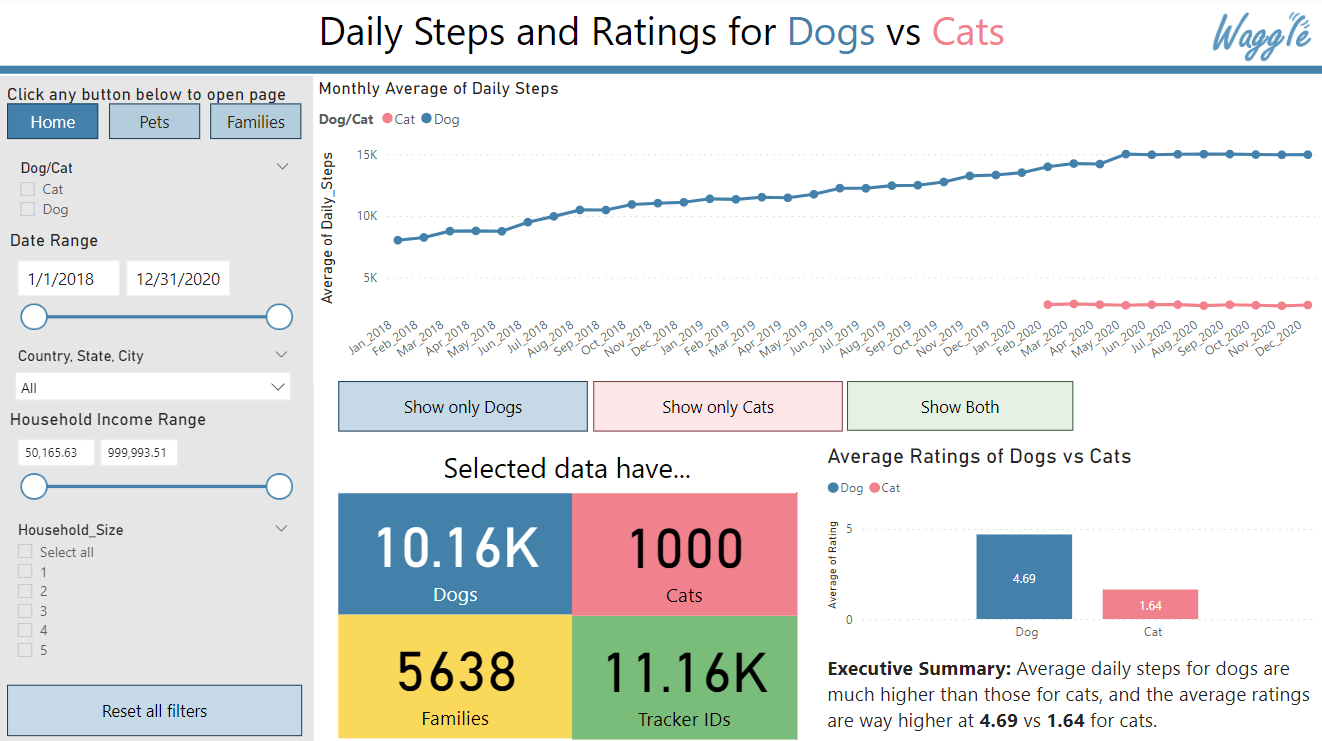

Layout of this report page (visuals, bound fields, positions):
{"tool":"powerbi","page":{"name":"Home","canvas":[1280,720],"ordinal":0},"visuals":[{"type":"shape","box":[0,76.3,305.3,643.3],"z":0},{"type":"lineChart","title":"Monthly Average of Daily Steps","fields":{"Category":["Date_Table.Month_Year"],"Y":["Avg(Tracker_Data.Daily_Steps)"],"Series":["Pet_Data.Dog/Cat"]},"box":[304.9,78.4,974.5,293.5],"z":1000},{"type":"columnChart","title":"Average Ratings of Dogs vs Cats","fields":{"Y":["Avg(Rating_Data.Rating)"],"Category":["Pet_Data.Dog/Cat"],"Series":["Pet_Data.Dog/Cat"]},"box":[796.4,431.7,483,199.5],"z":2000},{"type":"textbox","box":[796.4,631.2,483,88.3],"z":3000},{"type":"card","fields":{"Values":["CountNonNull(Pet_Data.Dog/Cat)"]},"box":[554.2,478.9,217.2,119.4],"z":4000},{"type":"card","fields":{"Values":["CountNonNull(Pet_Data.Dog/Cat)"]},"box":[329,478.1,225.7,119.5],"z":5000},{"type":"textbox","box":[305.1,2.4,974.5,62.7],"z":6000},{"type":"textbox","box":[329.3,431.9,441.6,47.7],"z":7000},{"type":"card","fields":{"Values":["Count(Tracker_Data.Family_ID)"]},"box":[329,597.5,225.7,119.5],"z":8000},{"type":"card","fields":{"Values":["Count(Tracker_Data.Tracker_ID)"]},"box":[554.2,598.3,217.2,119.4],"z":9000},{"type":"image","box":[1159.8,2.7,119.9,73.6],"z":10000},{"type":"shape","box":[0,65.4,1279.7,12.3],"z":11000},{"type":"pageNavigator","title":"Click any button below to open page","box":[9.8,84.4,285,53.8],"z":12000},{"type":"slicer","fields":{"Values":["Pet_Data.Dog/Cat"]},"box":[9.8,151.7,285,73.4],"z":13000},{"type":"slicer","title":"Date Range","fields":{"Values":["Date_Table.Date"]},"box":[7.3,225.1,286.2,105.2],"z":14000},{"type":"slicer","fields":{"Values":["Family_Data.Country","Family_Data.State","Family_Data.City"]},"box":[7.3,333.9,286.2,74.6],"z":15000},{"type":"slicer","title":"Household Income Range","fields":{"Values":["Family_Data.Household_Income"]},"box":[7.3,397.6,286.2,104],"z":16000},{"type":"actionButton","box":[9.6,664.5,284.6,49.4],"z":17000},{"type":"actionButton","box":[329.1,371.9,240.8,48.4],"z":18000},{"type":"actionButton","box":[575.6,371.9,240.8,48.4],"z":19000},{"type":"actionButton","box":[820.1,371.5,218.3,48.2],"z":20000},{"type":"slicer","fields":{"Values":["Family_Data.Household_Size"]},"box":[7.3,501.5,286.2,150.5],"z":21000}]}

Visuals, with their boxes in screenshot pixels (x1, y1, x2, y2), scaled from the page's 1280x720 canvas onto the 1322x741 screenshot:
shape: [0, 79, 315, 740]
"Monthly Average of Daily Steps" lineChart: [315, 81, 1321, 383]
"Average Ratings of Dogs vs Cats" columnChart: [823, 444, 1321, 650]
textbox: [823, 650, 1321, 740]
card - CountNonNull(Pet_Data.Dog/Cat): [572, 493, 797, 616]
card - CountNonNull(Pet_Data.Dog/Cat): [340, 492, 573, 615]
textbox: [315, 2, 1321, 67]
textbox: [340, 444, 796, 494]
card - Count(Tracker_Data.Family_ID): [340, 615, 573, 738]
card - Count(Tracker_Data.Tracker_ID): [572, 616, 797, 739]
image: [1198, 3, 1321, 79]
shape: [0, 67, 1321, 80]
"Click any button below to open page" pageNavigator: [10, 87, 304, 142]
slicer - Pet_Data.Dog/Cat: [10, 156, 304, 232]
"Date Range" slicer: [8, 232, 303, 340]
slicer - Family_Data.Country x Family_Data.State: [8, 344, 303, 420]
"Household Income Range" slicer: [8, 409, 303, 516]
actionButton: [10, 684, 304, 735]
actionButton: [340, 383, 589, 433]
actionButton: [594, 383, 843, 433]
actionButton: [847, 382, 1072, 432]
slicer - Family_Data.Household_Size: [8, 516, 303, 671]
